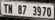character: (21, 5, 27, 15), (46, 6, 51, 18), (31, 5, 36, 16), (7, 4, 12, 14), (36, 6, 41, 16), (41, 6, 46, 16), (3, 3, 7, 14), (17, 4, 21, 15)
